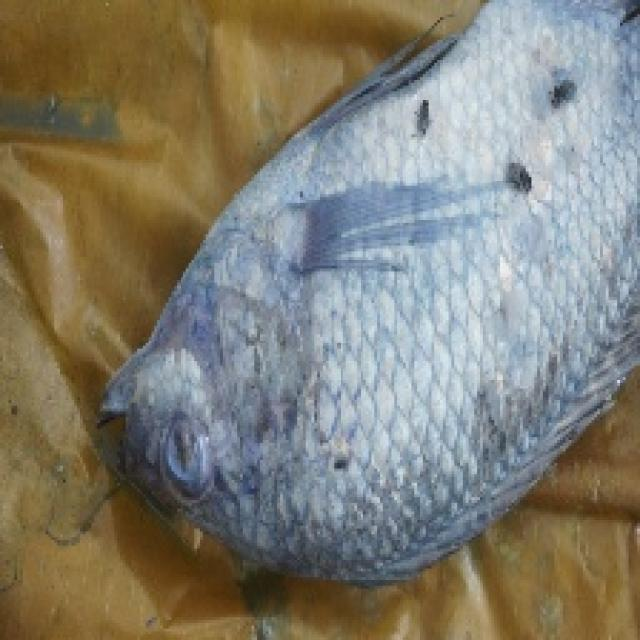Non-Fresh: (106, 101, 606, 593)
